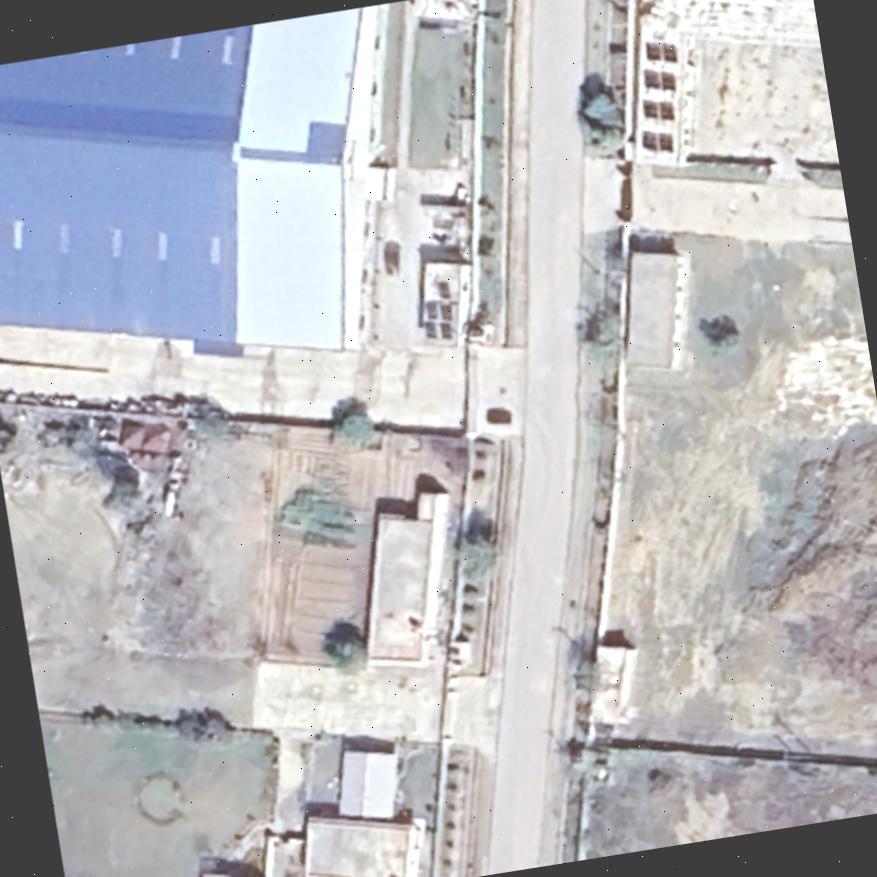Solarpanel: (407, 270, 466, 347), (635, 28, 685, 71), (632, 58, 683, 100), (632, 120, 682, 162), (633, 88, 681, 128)
